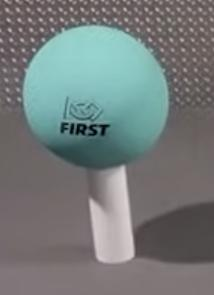algae: (22, 25, 169, 169)
coral: (86, 164, 136, 265)
